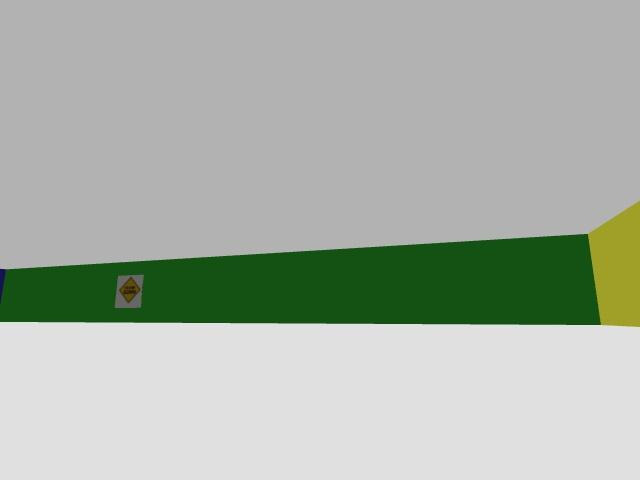slowsign: (115, 275, 143, 307)
